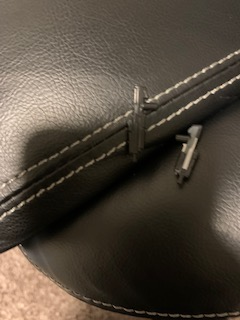rifle: (127, 85, 159, 164), (170, 124, 202, 189)
